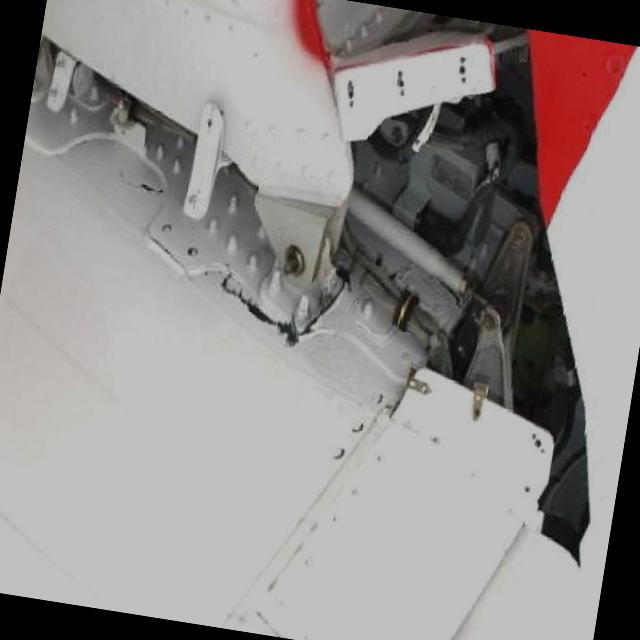crack: (512, 303, 590, 558), (224, 280, 299, 345), (220, 289, 300, 342)
